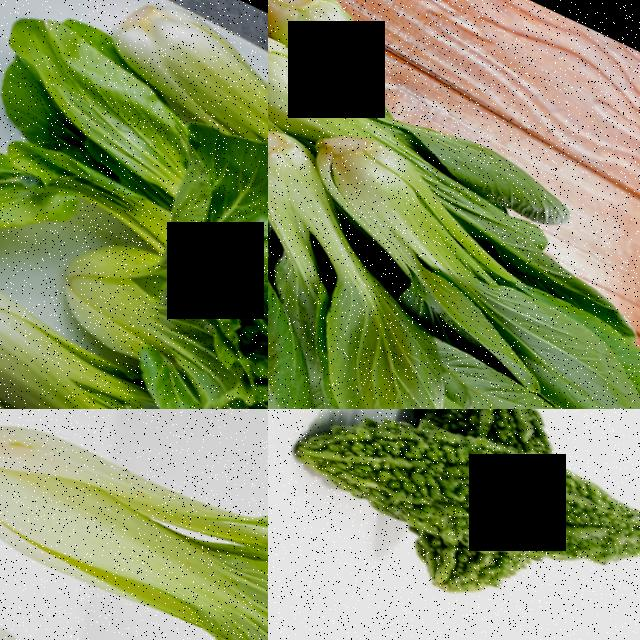bitter gourd: (268, 409, 640, 640), (408, 409, 613, 462)
bok choy: (310, 161, 606, 371), (0, 409, 268, 640), (268, 139, 495, 402), (0, 241, 261, 409), (120, 0, 268, 199), (268, 18, 414, 153), (268, 0, 432, 89)
